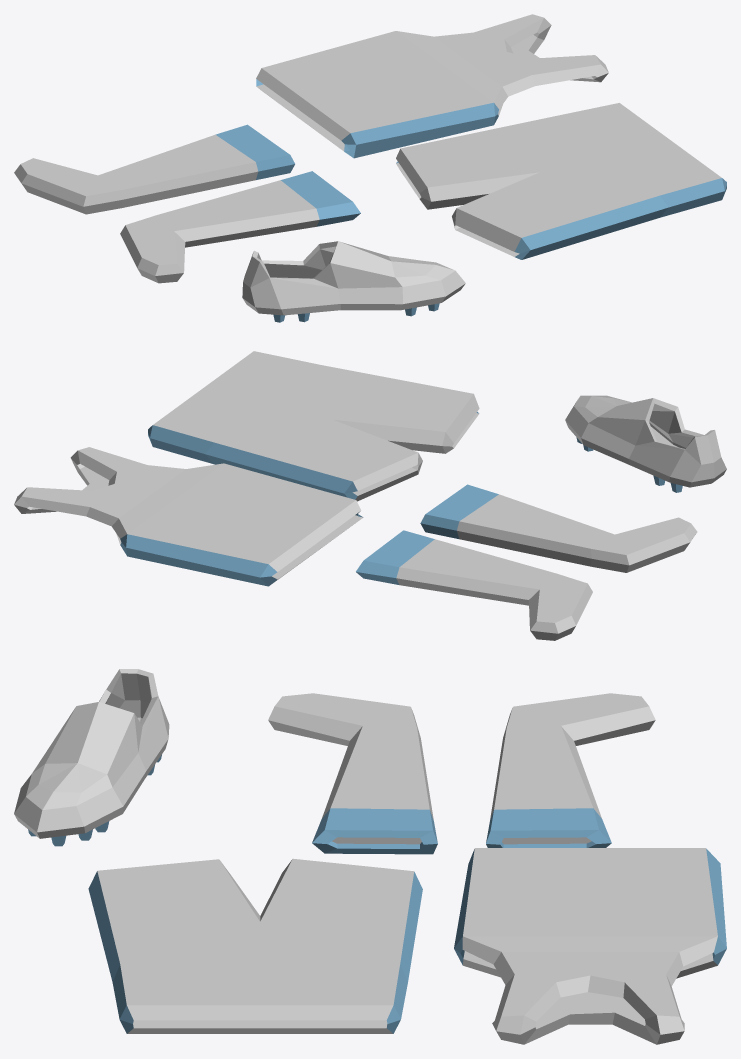
File: outfit_soccer.fbx
3 renders of one model, top to bottom at view 1: azimuth 30°, elevation 25°; view 2: azimuth 150°, elevation 25°; view 3: azimuth 270°, elevation 25°, orthographic. The views are drawn at different scales.
Parts seen in each view (by area): view 1: Soccer_shorts, Soccer_shirt, Soccer_cleat, Soccer_right sock, Soccer_left sock; view 2: Soccer_shorts, Soccer_shirt, Soccer_left sock, Soccer_right sock, Soccer_cleat; view 3: Soccer_shorts, Soccer_shirt, Soccer_left sock, Soccer_right sock, Soccer_cleat.
Boxes of the visible parts, x1,y1,x2,y2 form: Soccer_shorts: (396,103,726,259); Soccer_shirt: (256,14,608,158); Soccer_cleat: (242,241,465,322); Soccer_right sock: (14,124,294,214); Soccer_left sock: (120,171,360,283); Soccer_shorts: (148,351,479,501); Soccer_shirt: (14,447,363,586); Soccer_left sock: (420,484,697,572); Soccer_right sock: (356,530,592,640); Soccer_cleat: (565,395,726,492); Soccer_shorts: (88,858,422,1033); Soccer_shirt: (454,848,726,1044); Soccer_left sock: (268,693,437,854); Soccer_right sock: (486,693,655,847); Soccer_cleat: (14,669,169,846).
Bounding box in the file's own units: 8.52 × 0.9998 × 7.38.
